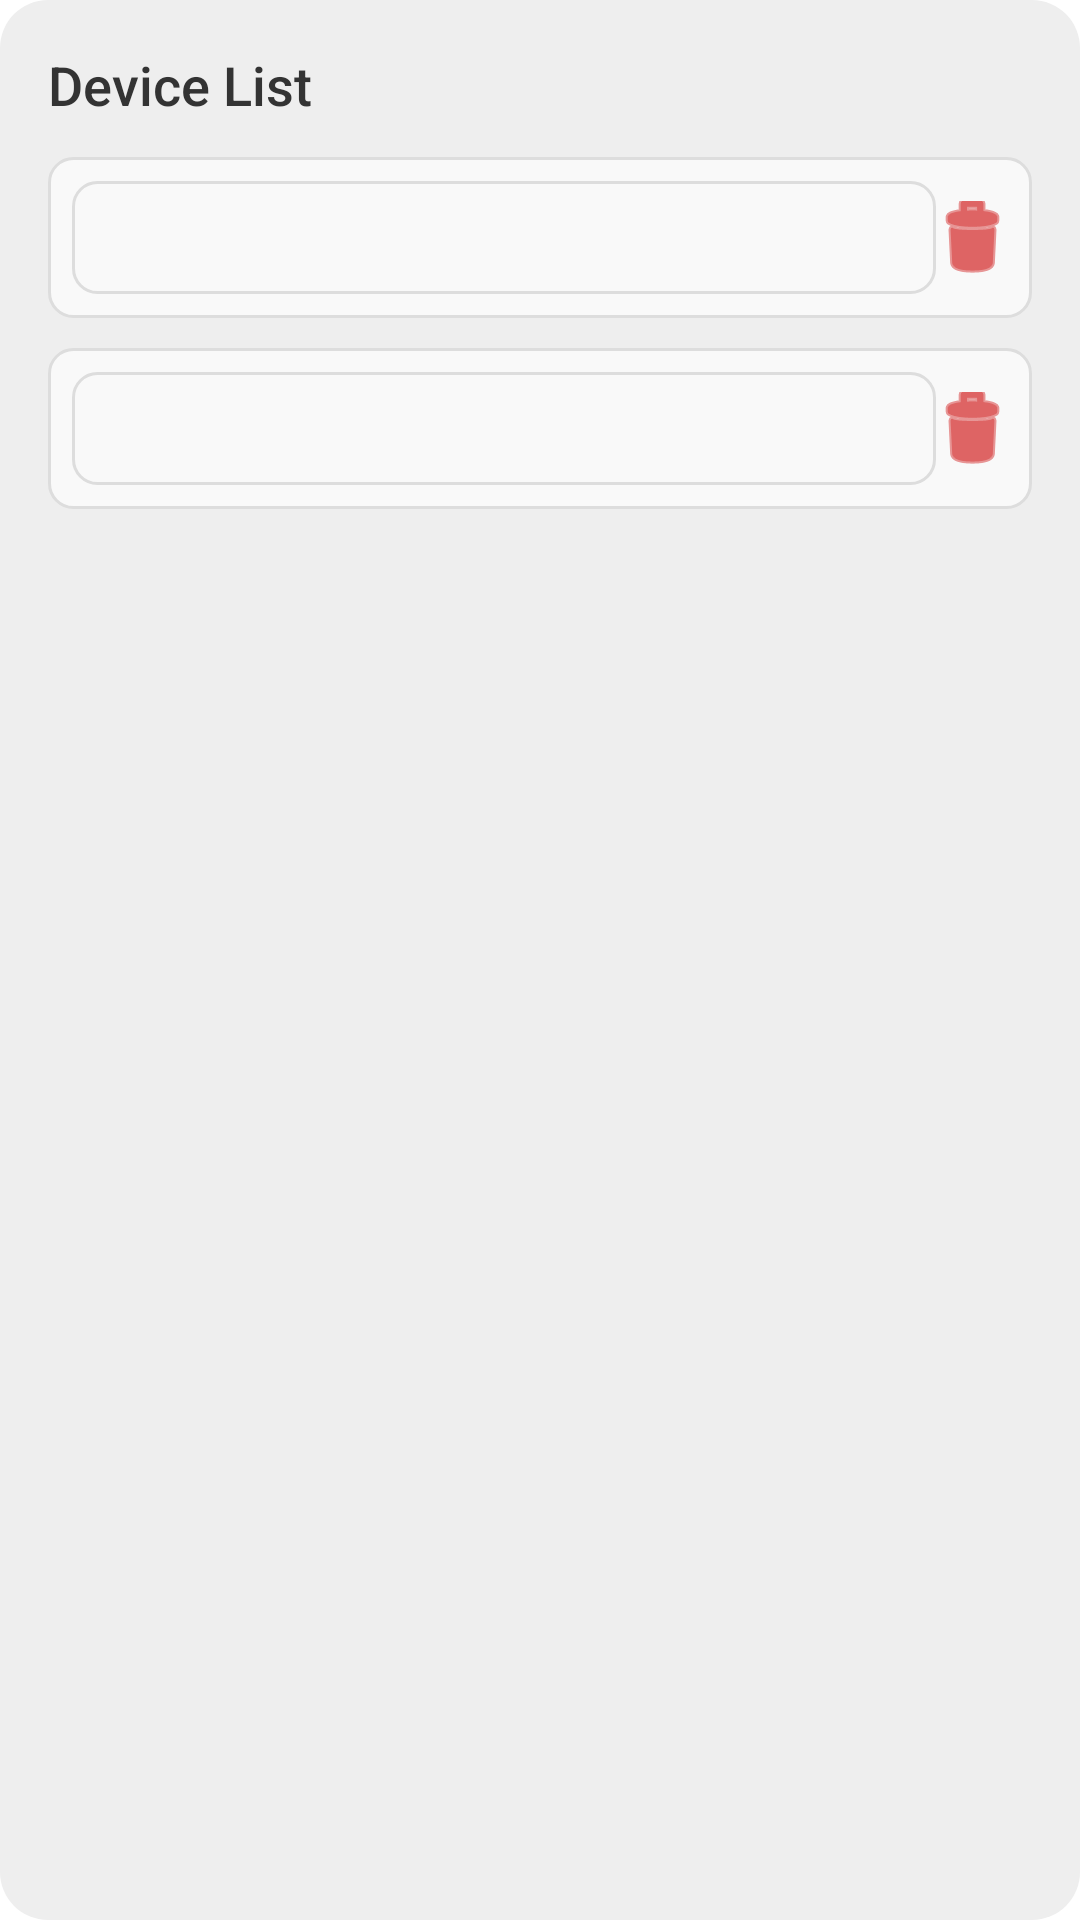

Icons on this 1080 x 1920 Android screen, each with the point to tap as (x,y):
Delete device 1: (972,237)
Delete device 2: (972,428)
